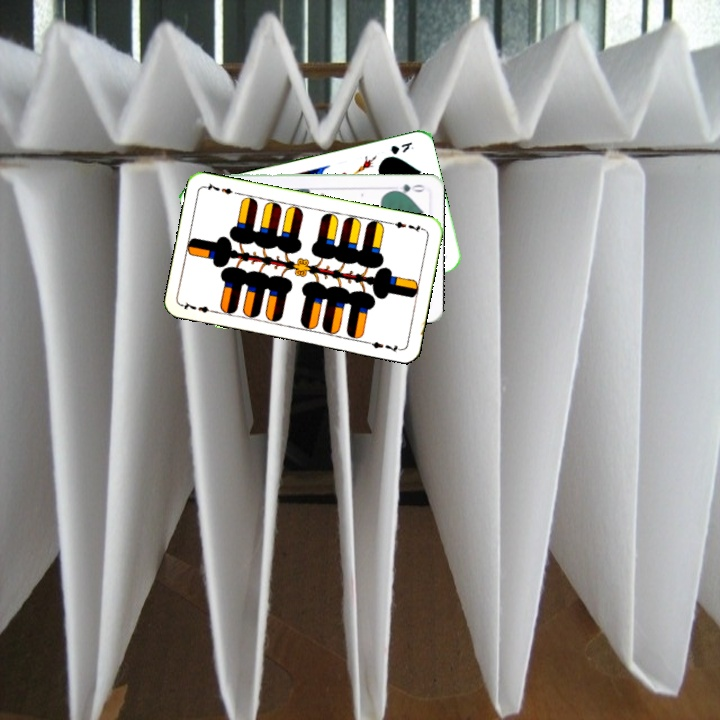E7: (387, 217, 427, 235), (179, 298, 219, 316)
GK: (385, 138, 416, 157)
GO: (387, 180, 427, 197)
